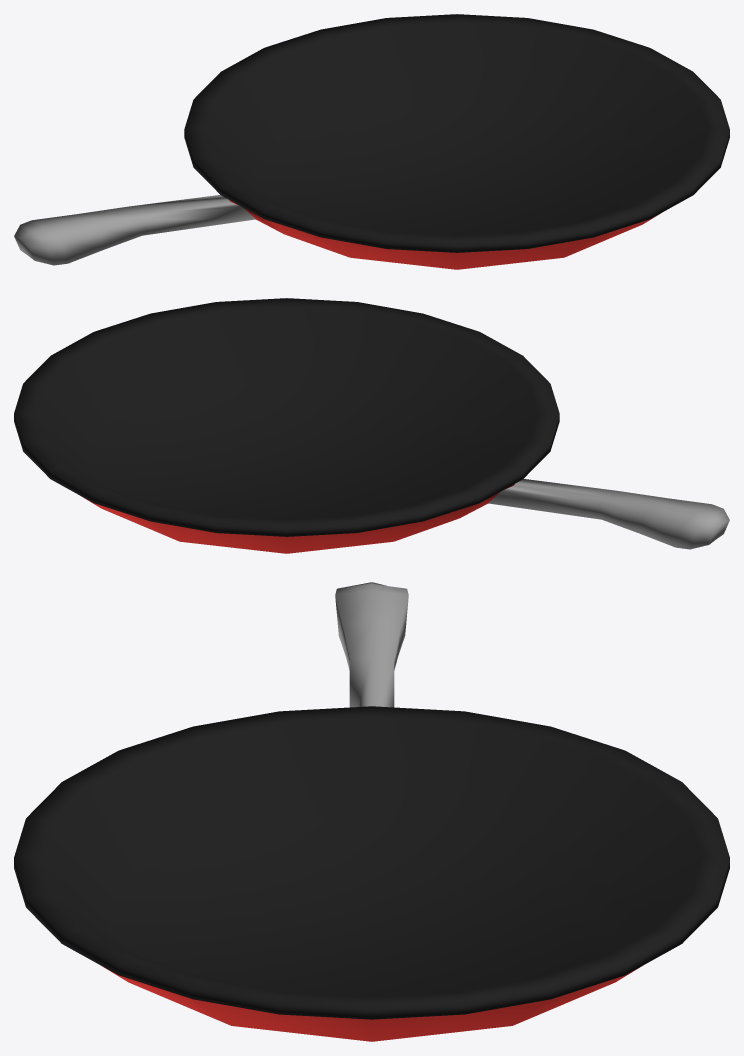
The model's file is skillet.glb.
3 renders of one model, top to bottom at view 1: azimuth 30°, elevation 25°; view 2: azimuth 150°, elevation 25°; view 3: azimuth 270°, elevation 25°, orthographic. The views are drawn at different scales.
Parts seen in each view (by area): view 1: skillet; view 2: skillet; view 3: skillet.
Boxes of the visible parts, <box> form: skillet: <box>14,14,729,269</box>; skillet: <box>14,298,729,553</box>; skillet: <box>14,582,729,1041</box>.
Size of the model in its own units: 0.6811 by 0.0786 by 0.4786.
